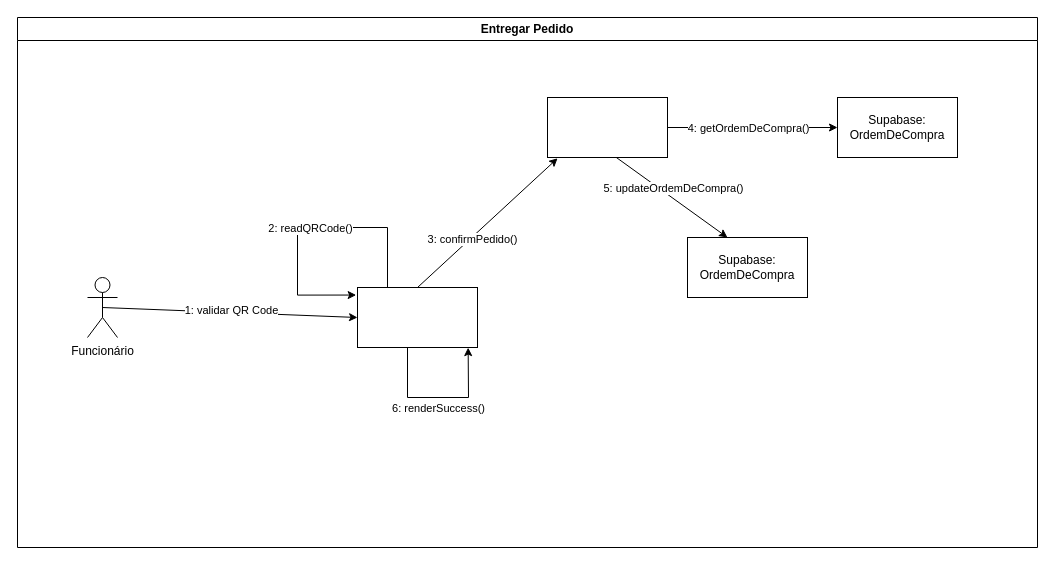
Image size: 1055x565. Some labels were removed from this diagram. Here are the shapes that lost their labels. From the top down, the box of each, then its label:
(546, 96, 668, 158): Pages: OrdemDeCompras
(356, 286, 478, 348): Tela de Scanner :UI
